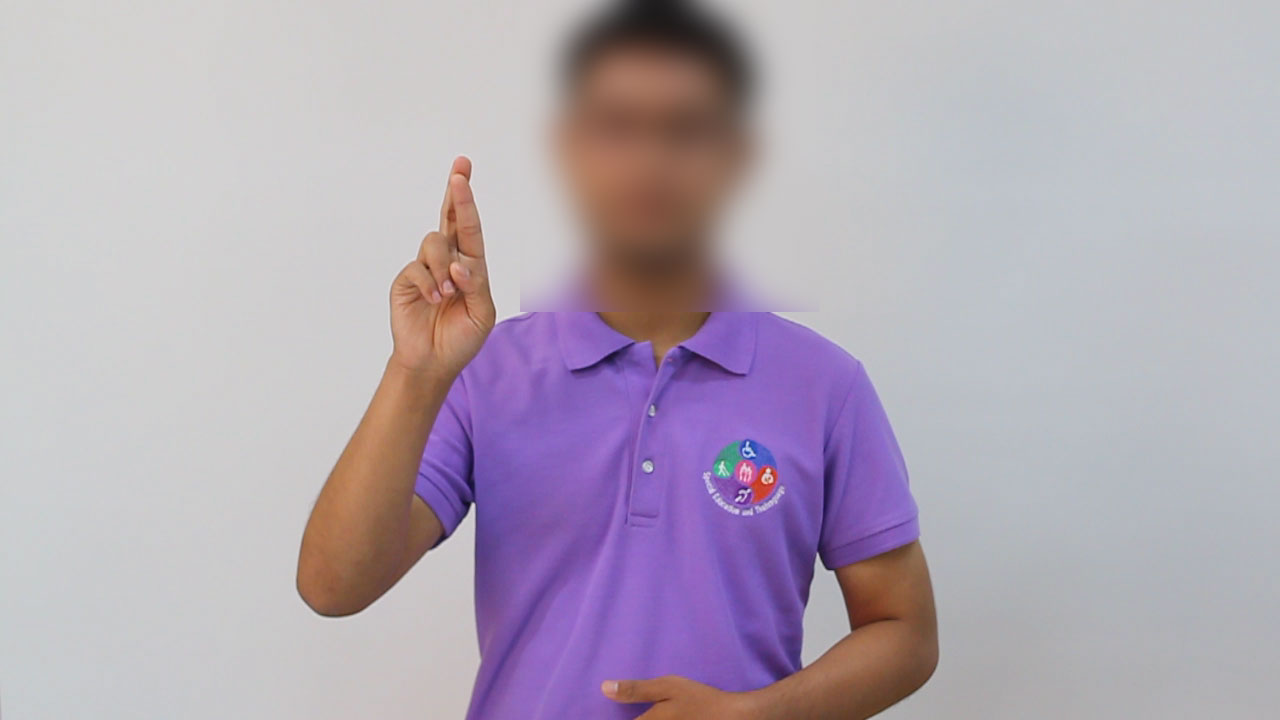rao: (361, 148, 499, 401)
